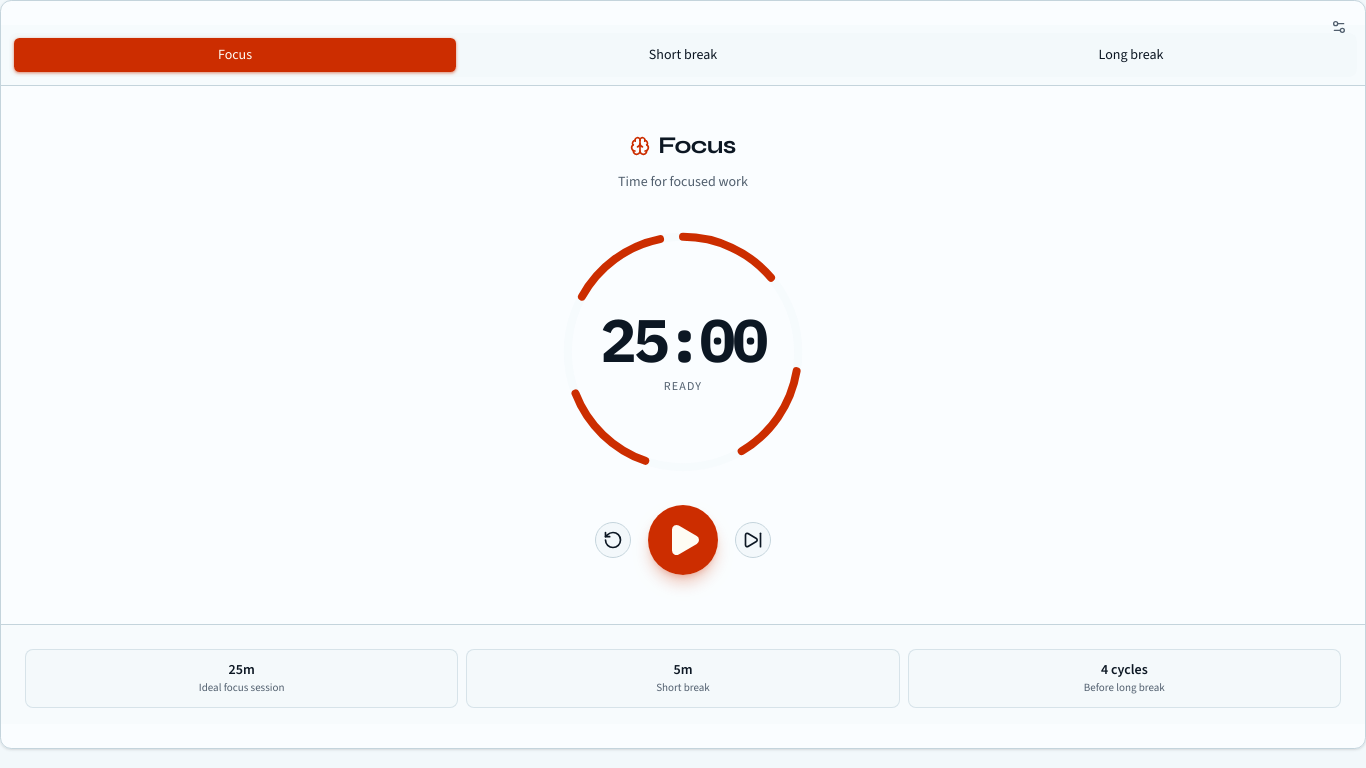
Test: Component: PomodoroTimer › Play/Pause control › changes status text to 'Focus...' when timer starts
Step 1. Click the button named "Start timer" → (683, 540), box x1=647 y1=504 x2=719 y2=576
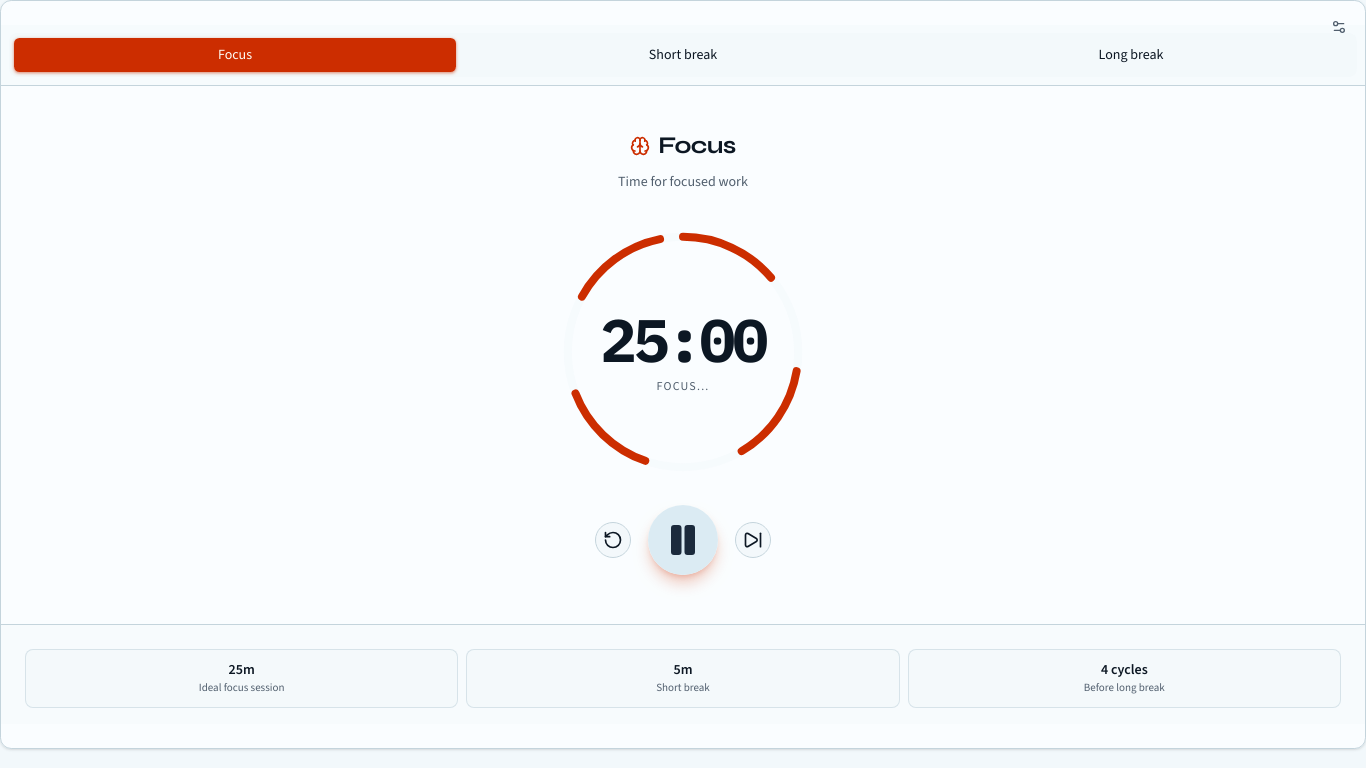
Expected: the text "Focus..." is shown, x1=656 y1=378 x2=710 y2=394
